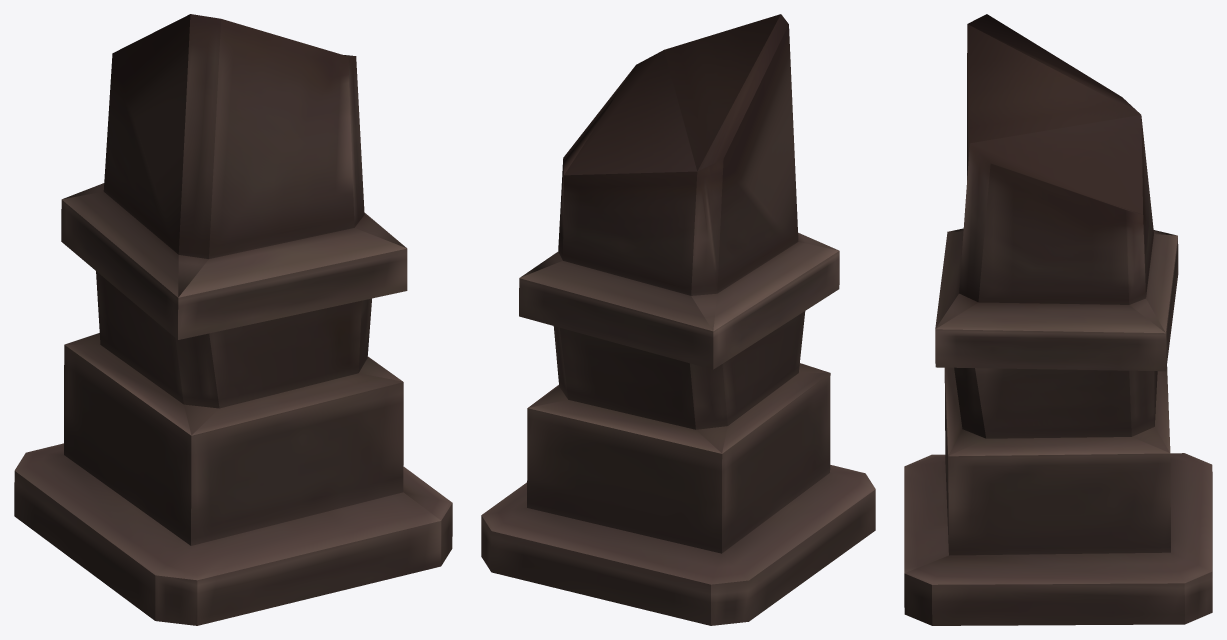
Rendered from rock_04.fbx.
The picture shows the model from 3 angles, left to right: view 1: azimuth 30°, elevation 25°; view 2: azimuth 150°, elevation 25°; view 3: azimuth 270°, elevation 25°; orthographic projection. The views are drawn at different scales.
Parts seen in each view (by area): view 1: rock_04; view 2: rock_04; view 3: rock_04.
Part boxes in pixels (x1,y1,x2,y2): rock_04: (14,14,452,625); rock_04: (481,14,875,625); rock_04: (904,14,1212,625).
Bounding box in the file's own units: 0.9 × 1.65 × 0.9008.
